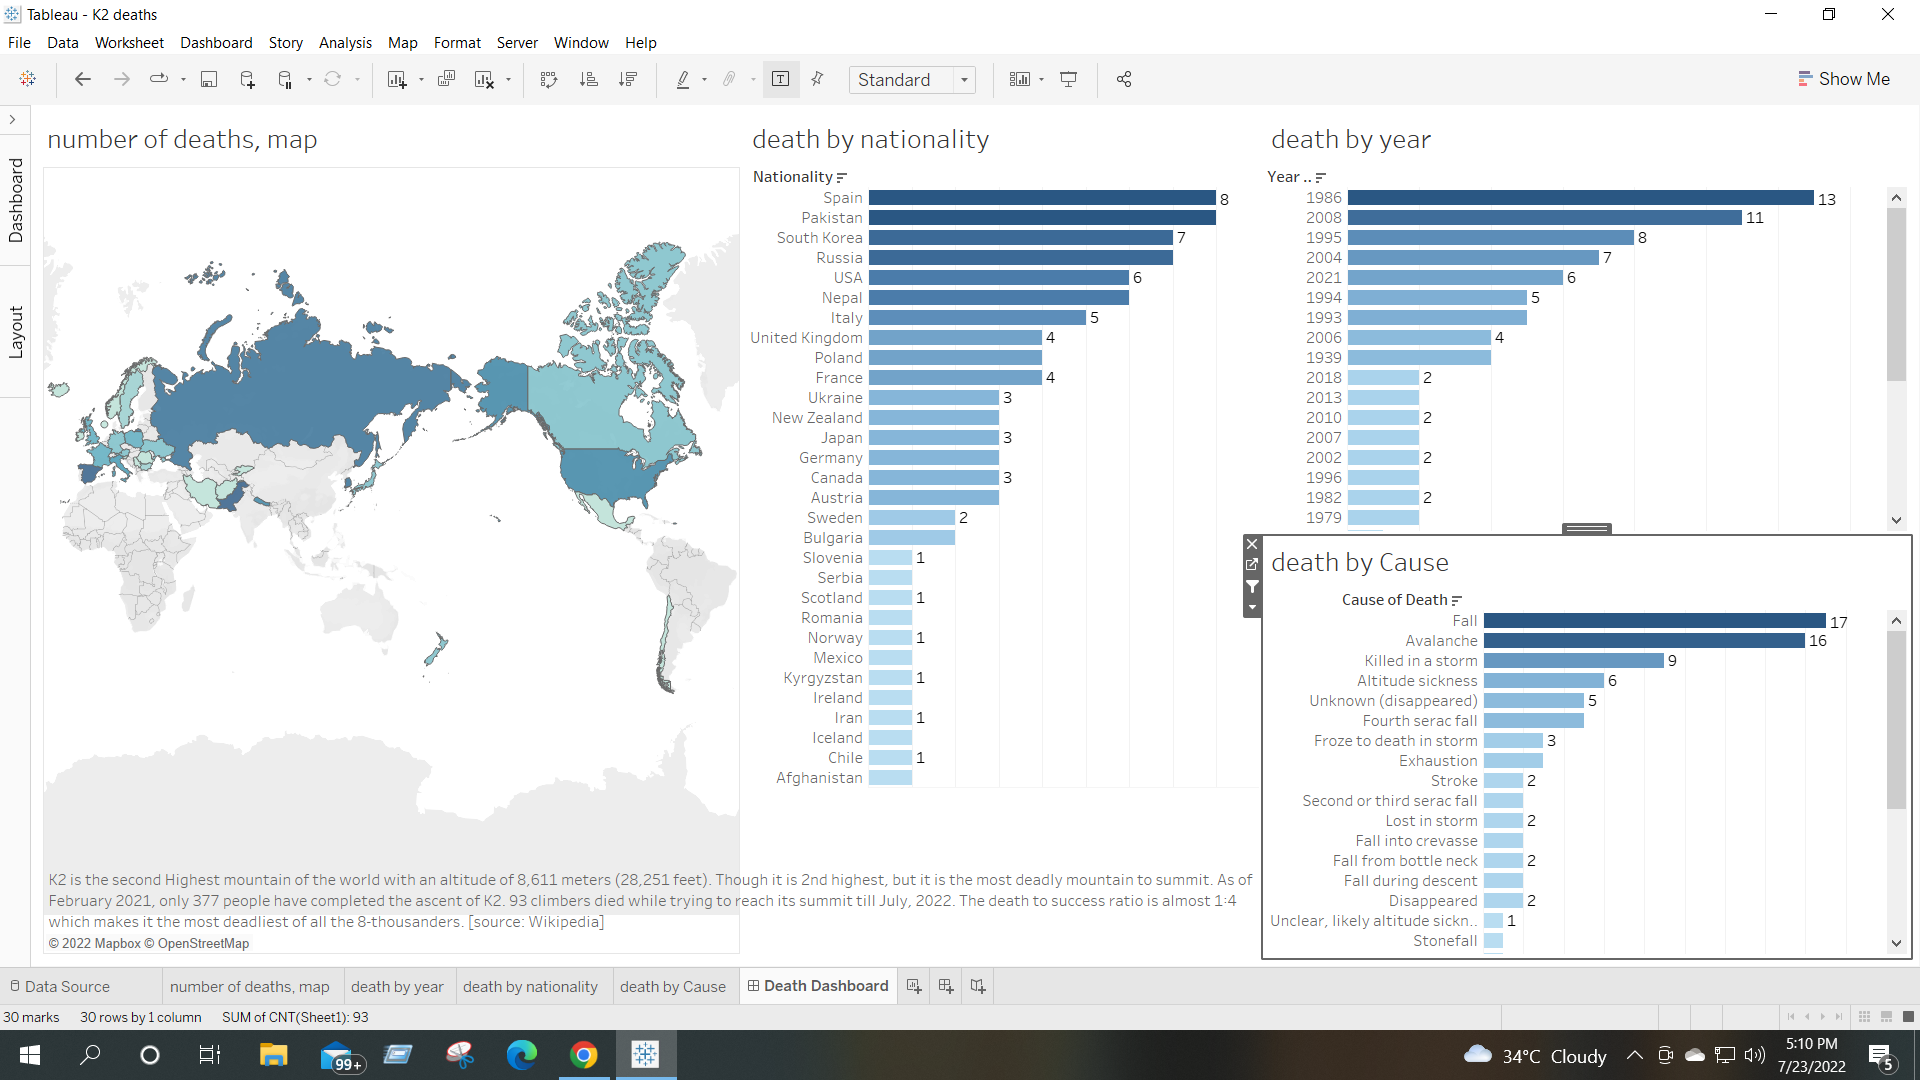

Layout of this report page (visuals, bound fields, positions):
{"tool":"tableau","page":{"name":"Death Dashboard","canvas":[1000,1000],"units":"permille","ordinal":0},"visuals":[{"type":"worksheet","title":"number of deaths, map","mark":"Multipolygon","box":[4.9,9.3,372.7,981.4]},{"type":"worksheet","title":"death by nationality","mark":"Automatic","rows":["Nationality"],"cols":["Sheet1_6AF0F77253E745F790B3FA16267A593F"],"box":[377.6,9.3,274.9,981.4]},{"type":"worksheet","title":"death by year","mark":"Bar","rows":["Date"],"cols":["Sheet1_6AF0F77253E745F790B3FA16267A593F"],"box":[652.5,9.3,342.6,490.7]},{"type":"worksheet","title":"death by Cause","mark":"Automatic","rows":["Casue of Death"],"cols":["Sheet1_6AF0F77253E745F790B3FA16267A593F"],"box":[652.5,500,342.6,490.7]},{"type":"text","box":[7.4,869.9,655,108]}]}

Visuals, with their boxes on the dashboard's canvas, which has no fixed pixel size, in thousandths of its width and height (x1, y1, x2, y2). These are canvas units, not pixel positions in the 1920x1080 screenshot, which may show the page scaled, cropped or inside an application window:
"number of deaths, map" worksheet (Multipolygon marks): [5,9,378,991]
"death by nationality" worksheet: [378,9,652,991]
"death by year" worksheet (Bar marks): [652,9,995,500]
"death by Cause" worksheet: [652,500,995,991]
text: [7,870,662,978]
